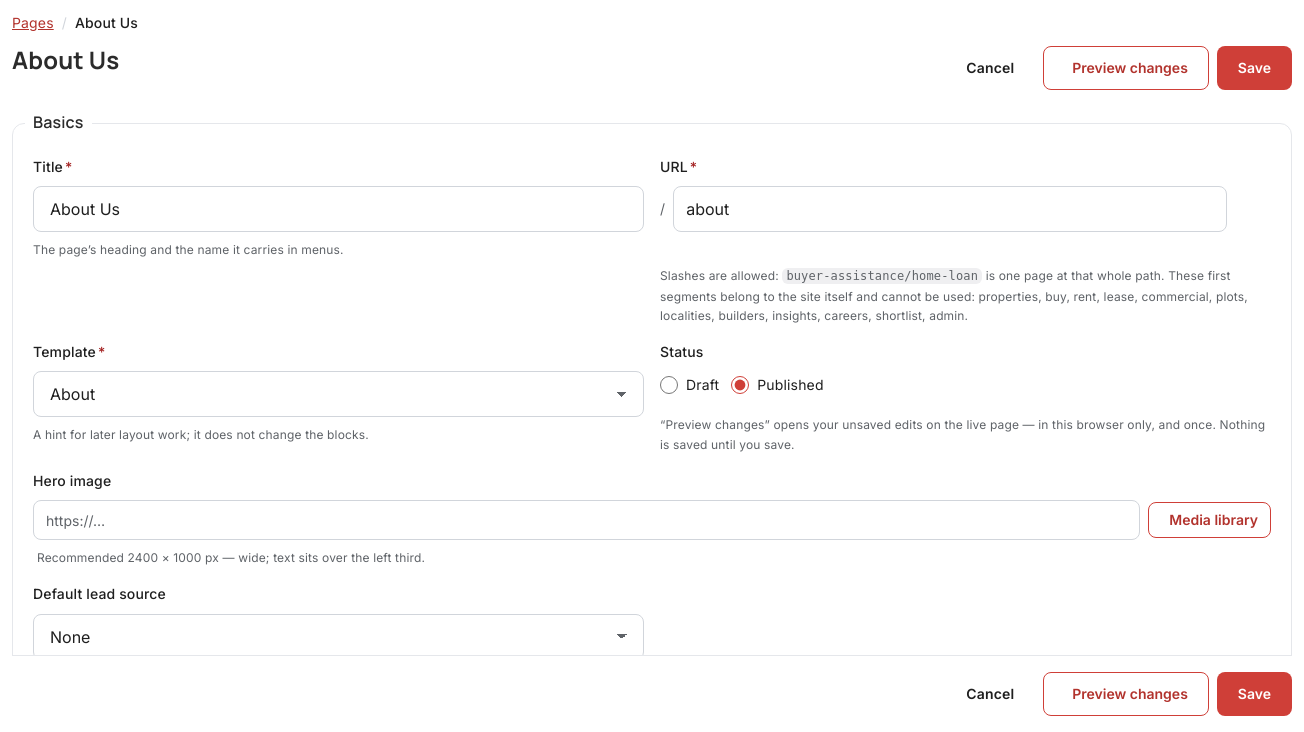
Test: PageFormPage › saving › refuses a one-letter title, as the API does
This screenshot has width=1304, height=732.
Replace the text in the field showing "About Us" with "A" at (338, 209), box top-left (33, 186), bottom-right (644, 232)
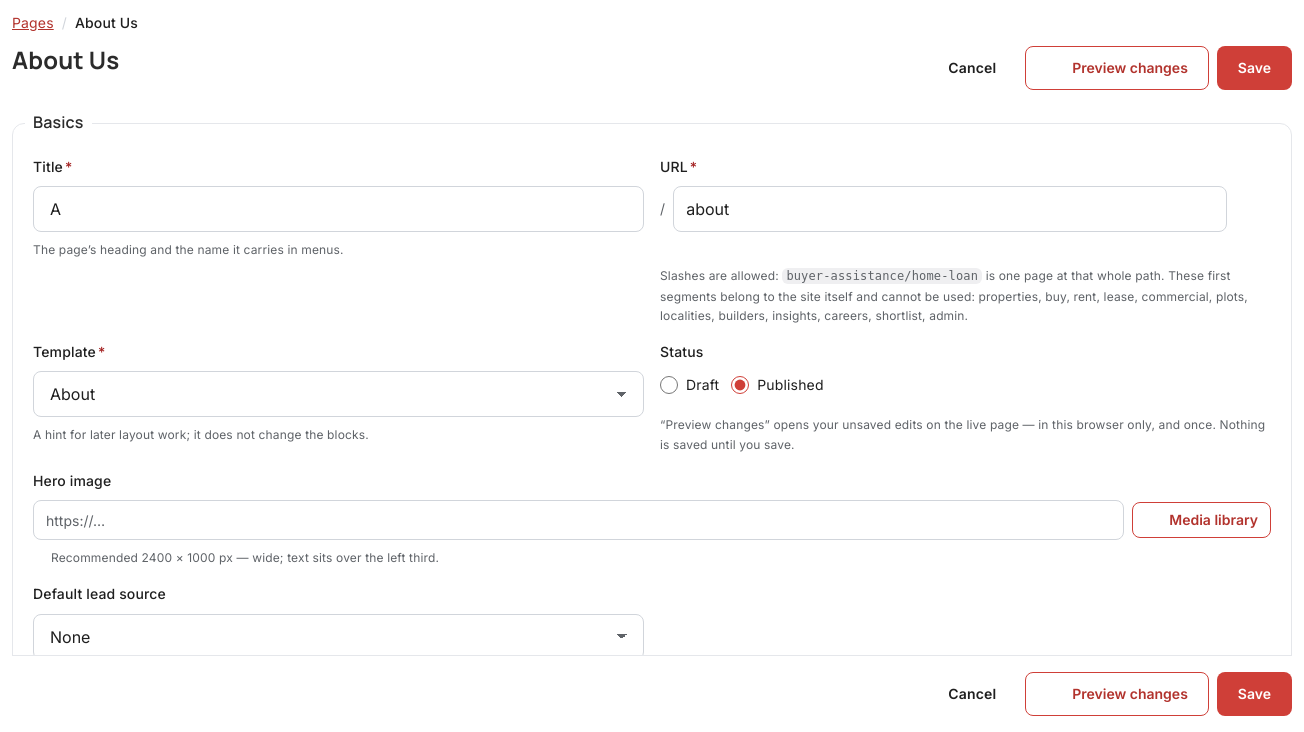
Click the 2nd button "Save" at (1254, 694), box top-left (1217, 672), bottom-right (1292, 716)
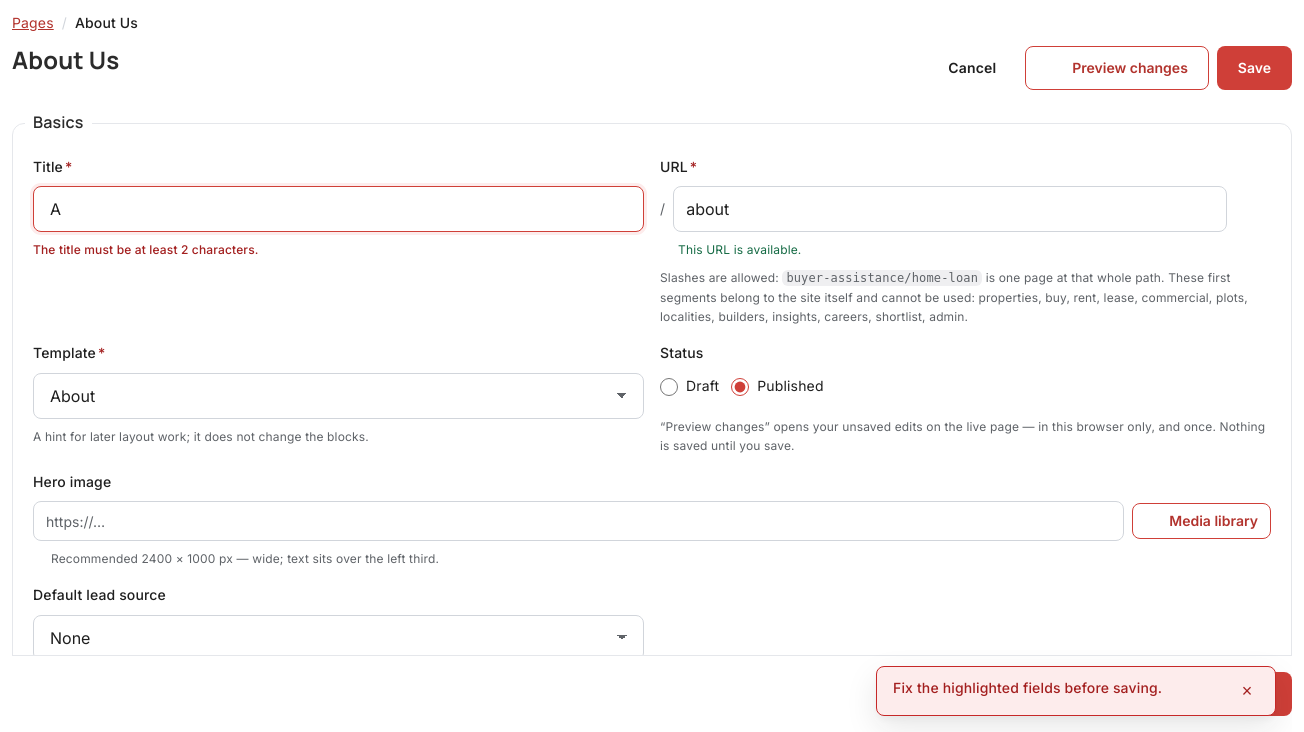
Expected: the text "The title must be at least 2 characters." is shown, top-left (33, 242), bottom-right (259, 257)
